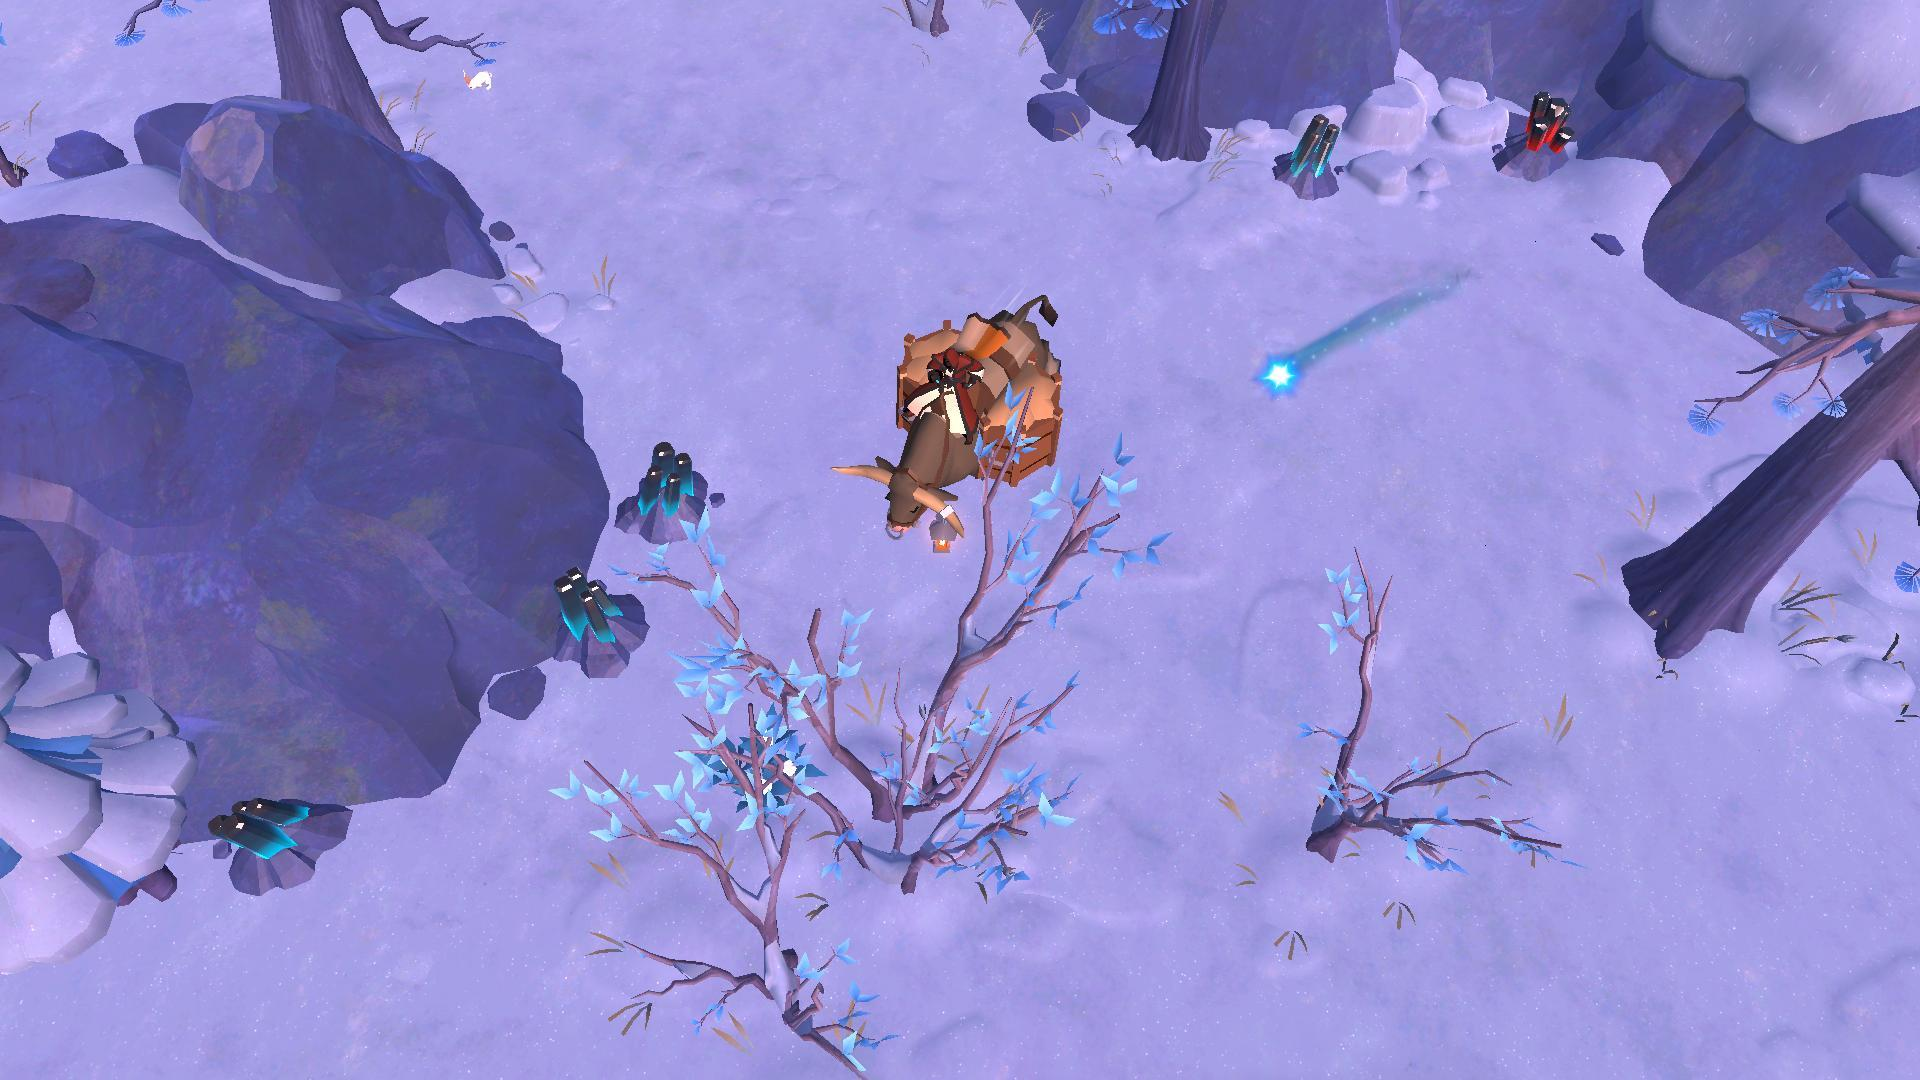ore_t4: (206, 793, 314, 869), (556, 562, 633, 659), (622, 442, 705, 514), (1290, 108, 1338, 181)
ore_t5: (1518, 92, 1575, 153)
